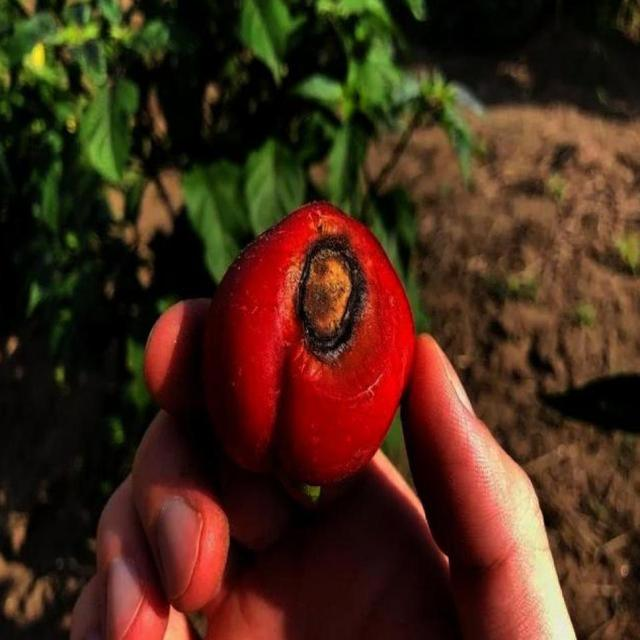Blossom End Rot Fruit: (194, 146, 264, 255)
